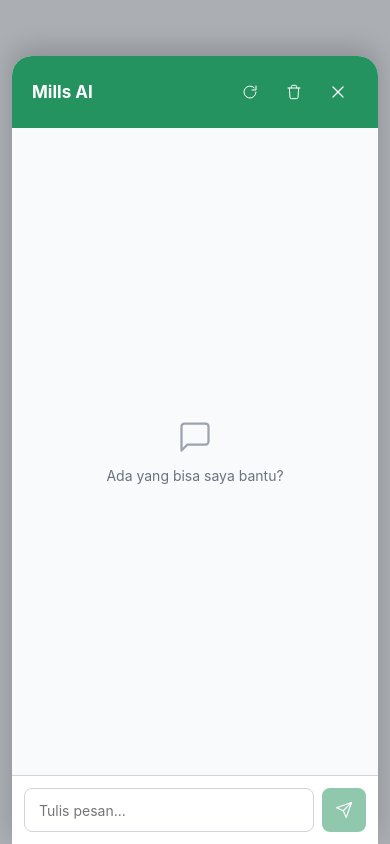
Scenario: AiAssistantPanel › loadHistory (Muat riwayat) › loads history, mapping "human" role to user and everything else to ai (markdown-rendered)
Click the button with test id "ai-assistant-load-history".
click(250, 92)  # box [230,72,270,112]
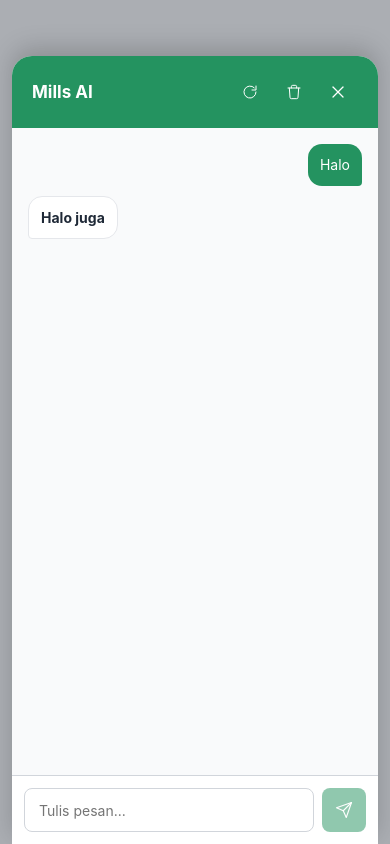
Result: the number of elements with test id "ai-assistant-message" is 2 at [308,144,362,186]; [28,196,118,239]
Result: the element with test id "ai-assistant-message" reads "Halo" at [320,156,350,173]
